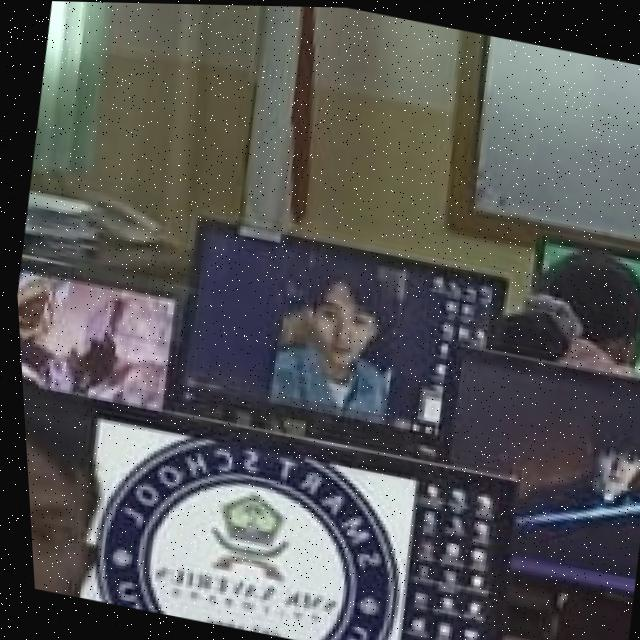onscreen: (68, 397, 508, 640), (179, 224, 499, 449), (444, 347, 640, 588), (14, 272, 170, 409)
